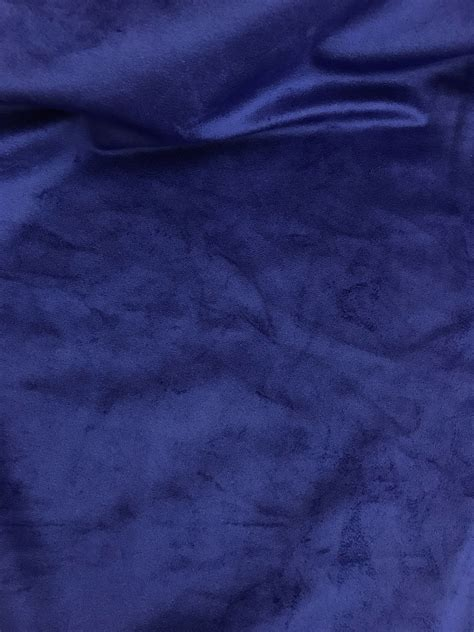gamuza: (1, 1, 474, 632)
